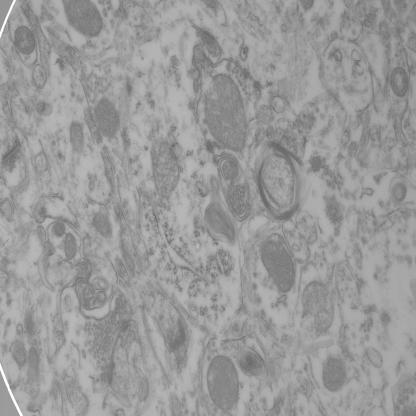mitochondria: (202, 72, 248, 154), (258, 236, 295, 296), (148, 137, 181, 201), (206, 354, 239, 413), (300, 280, 335, 334), (60, 0, 104, 41), (93, 96, 119, 141), (320, 353, 346, 396), (12, 23, 38, 58), (90, 208, 113, 241), (68, 122, 85, 154), (64, 232, 79, 264)
